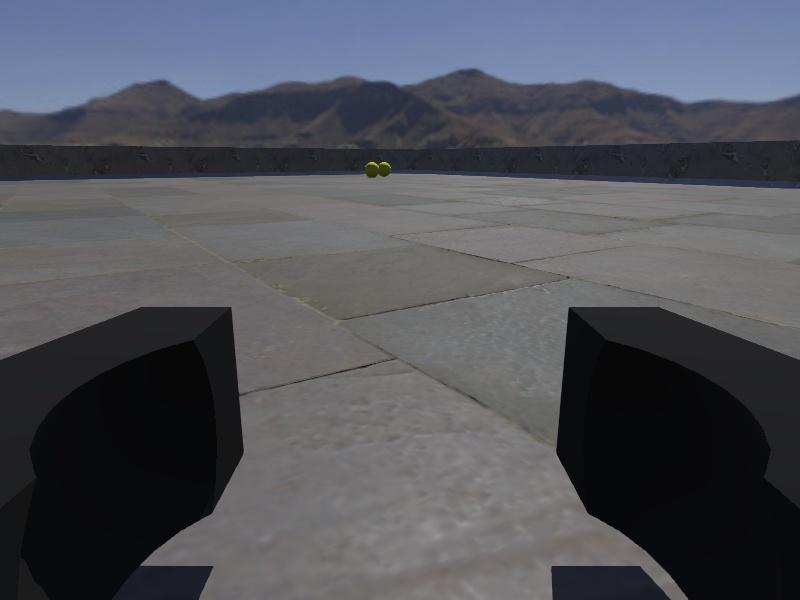yellow ball: (363, 162, 379, 178)
